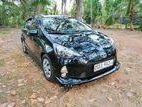car: (21, 16, 118, 86)
